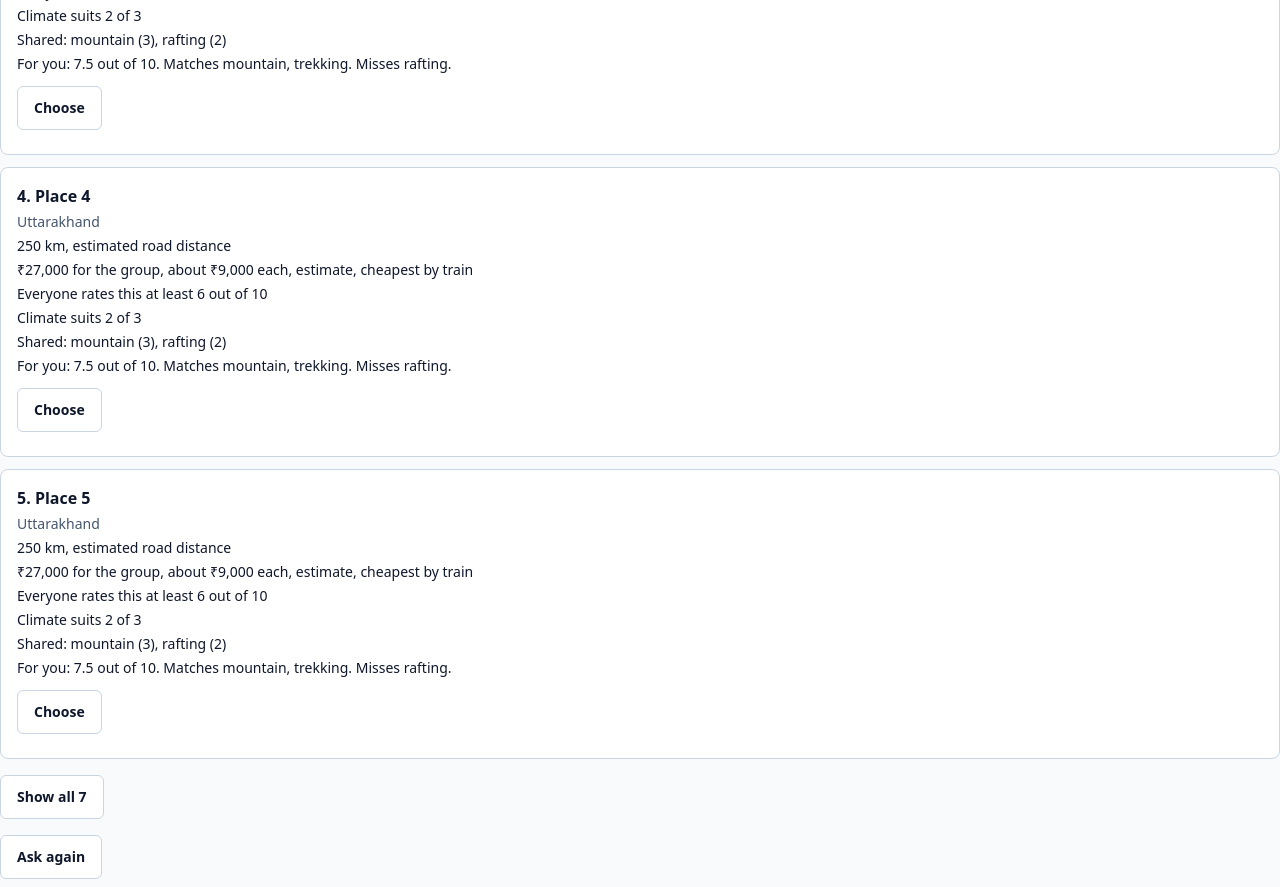
Test case: shortlist view › shows the first 5 ranked cards, then all of them
(page scrolled)
Click the button "Show all 7": (52, 797) [0,775,104,819]
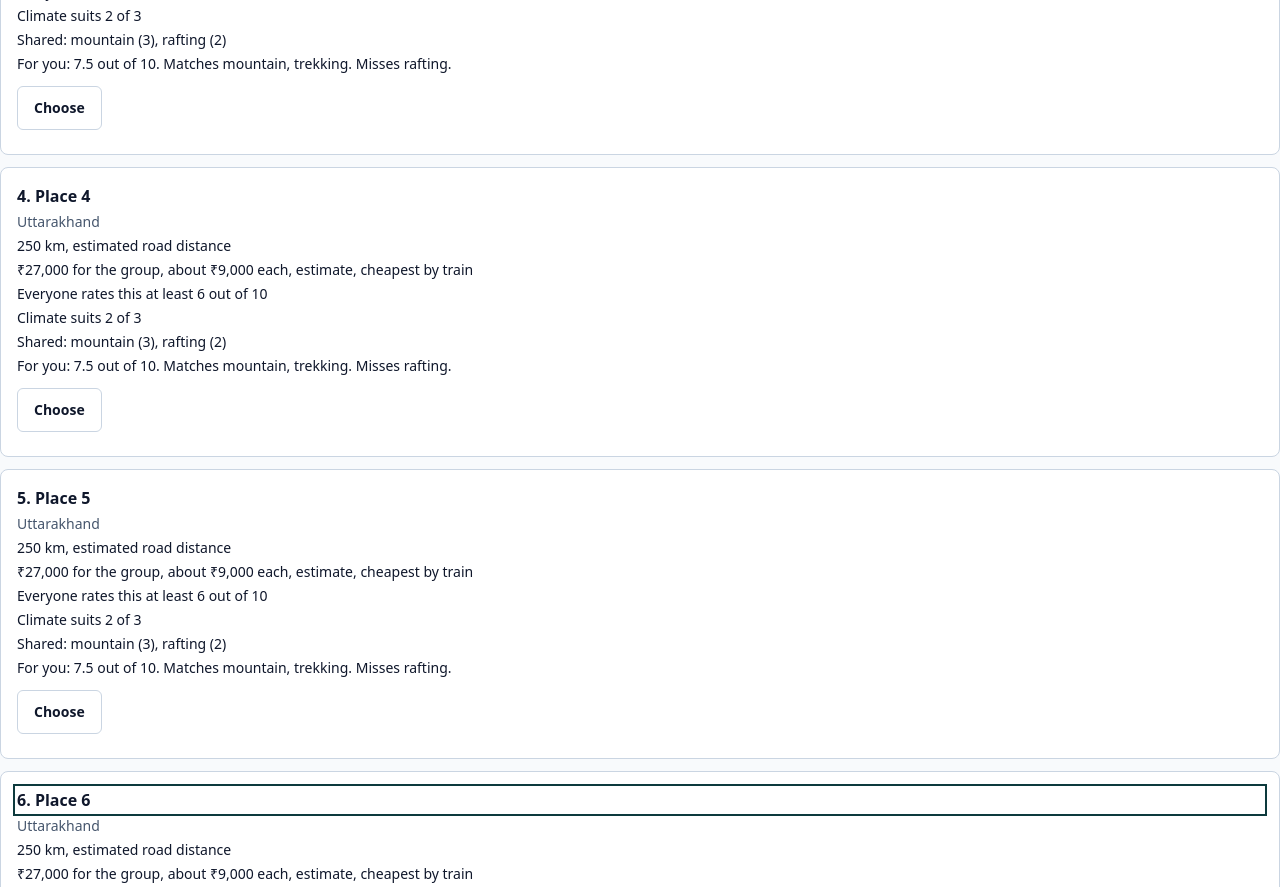
Expected: the button "Show all" is gone
